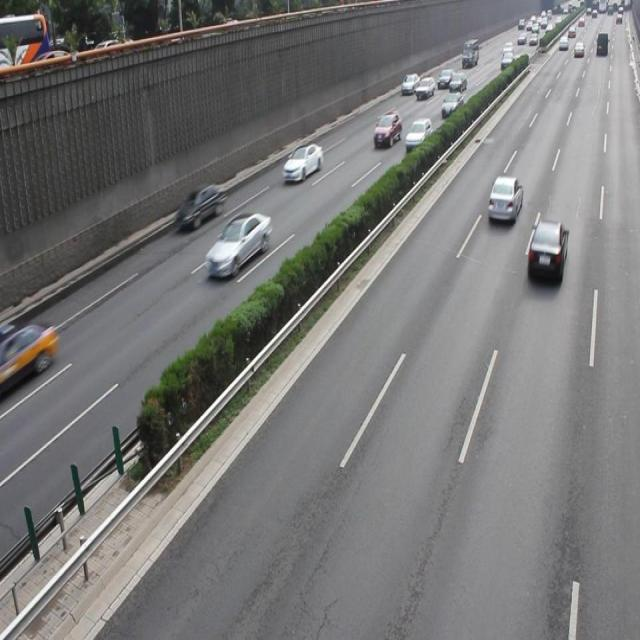car: (204, 211, 271, 278), (1, 316, 58, 392), (526, 217, 566, 284), (175, 182, 225, 232), (487, 173, 522, 223), (282, 142, 323, 180)
